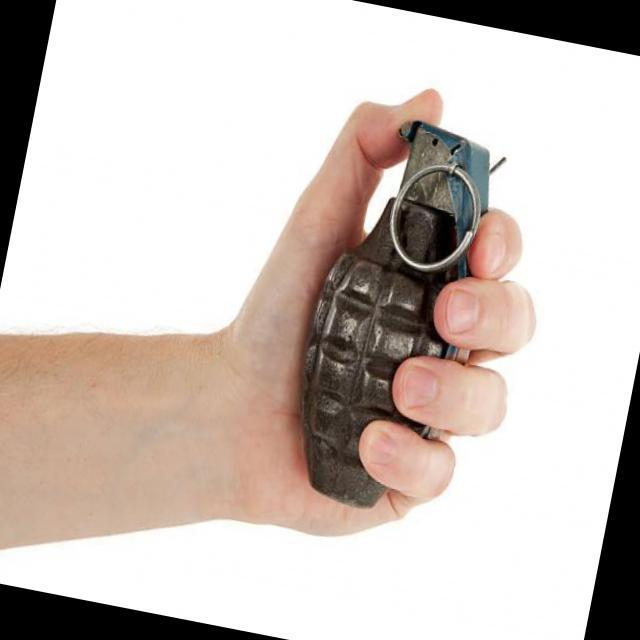grenade: (278, 98, 526, 539)
